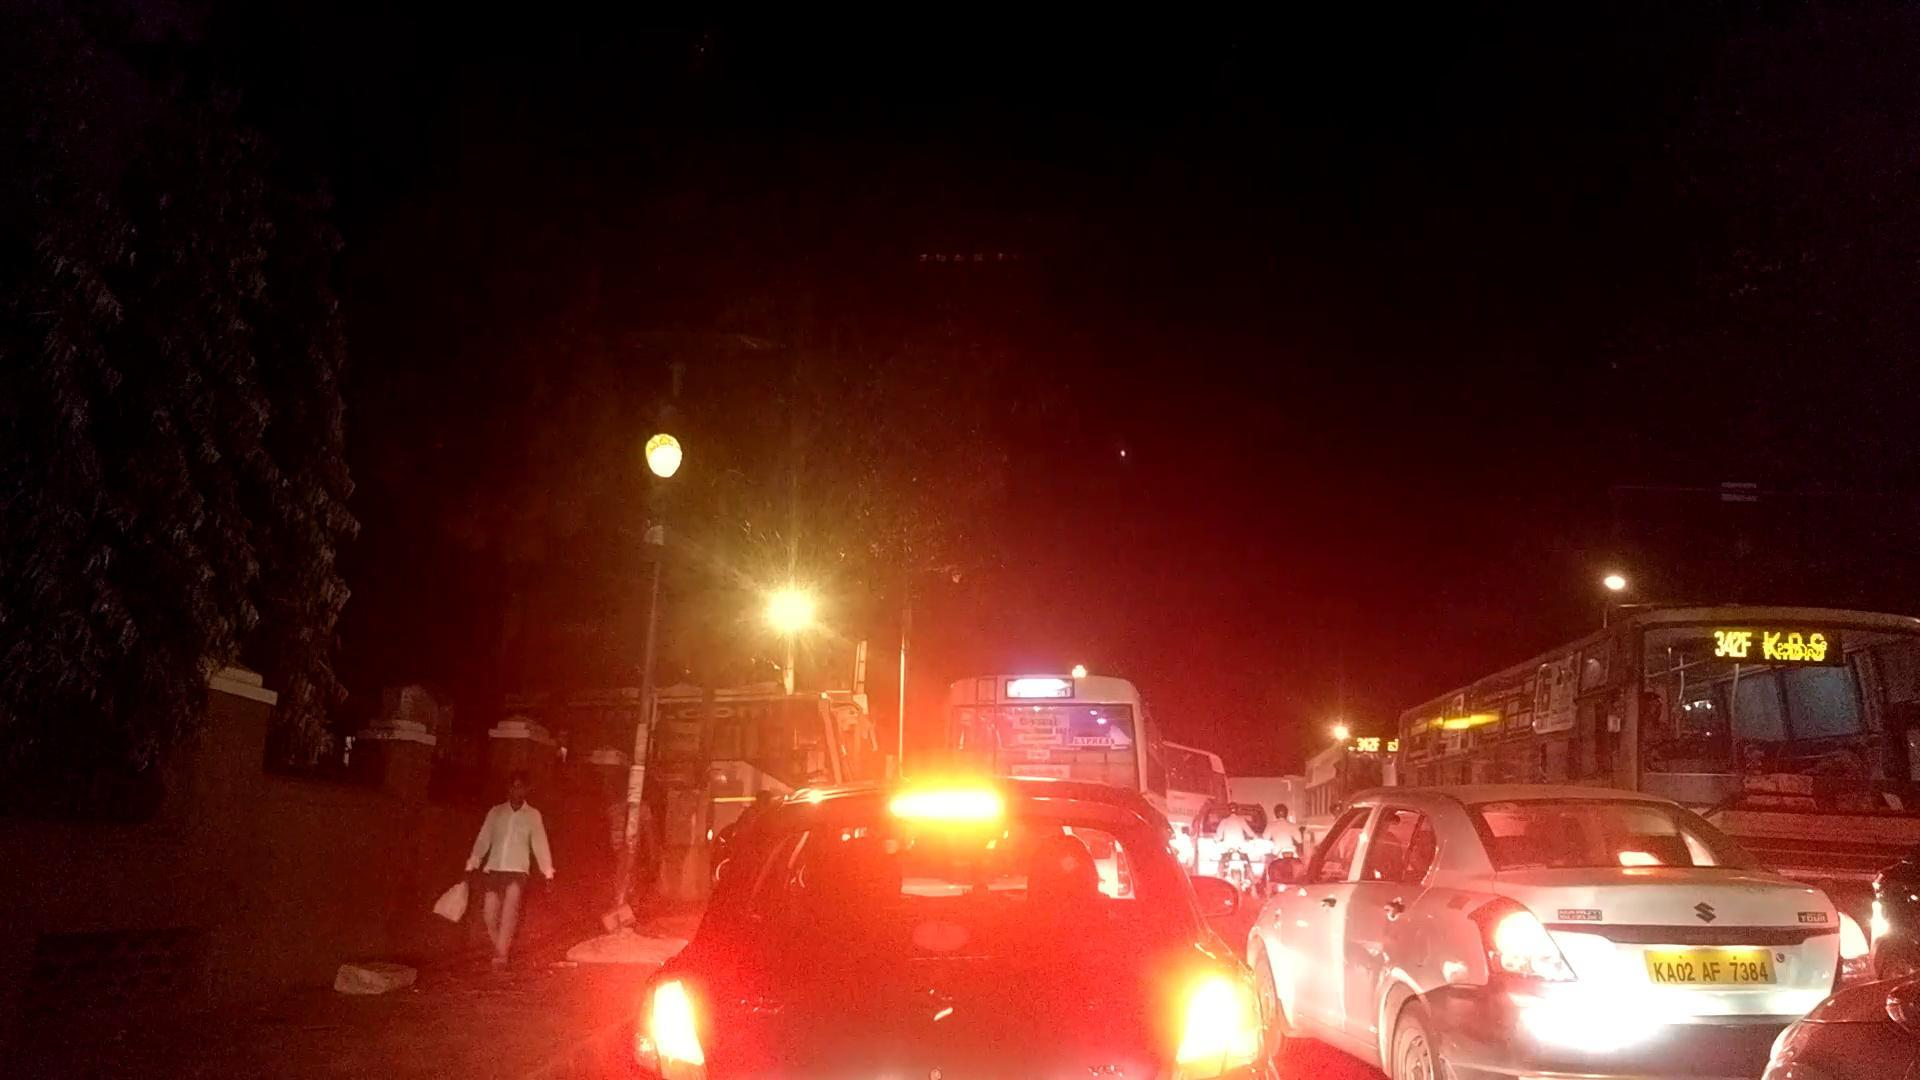on: (611, 422, 1031, 795)
